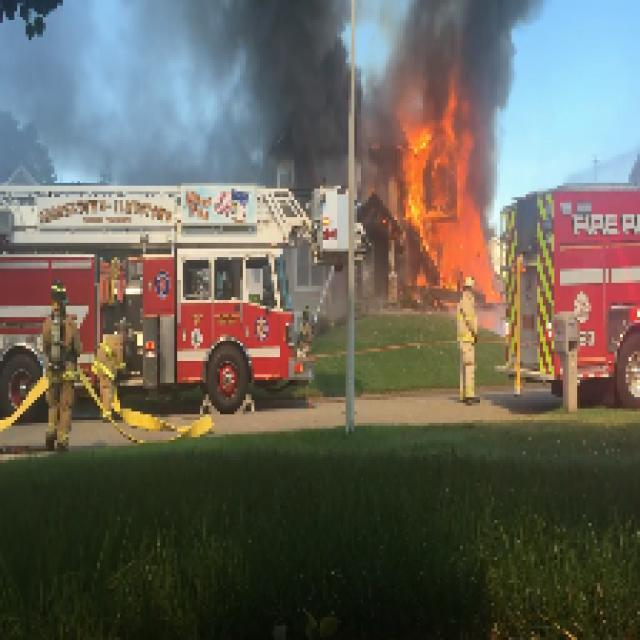Fire: (403, 130, 466, 218)
Smoke: (248, 0, 394, 189), (434, 8, 520, 86)
